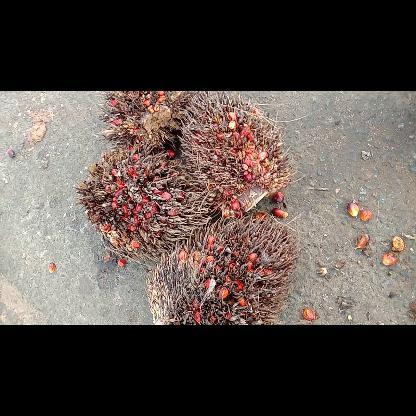Terlalu masak: (142, 210, 302, 324), (72, 147, 218, 265), (176, 93, 298, 219), (98, 91, 210, 157)
